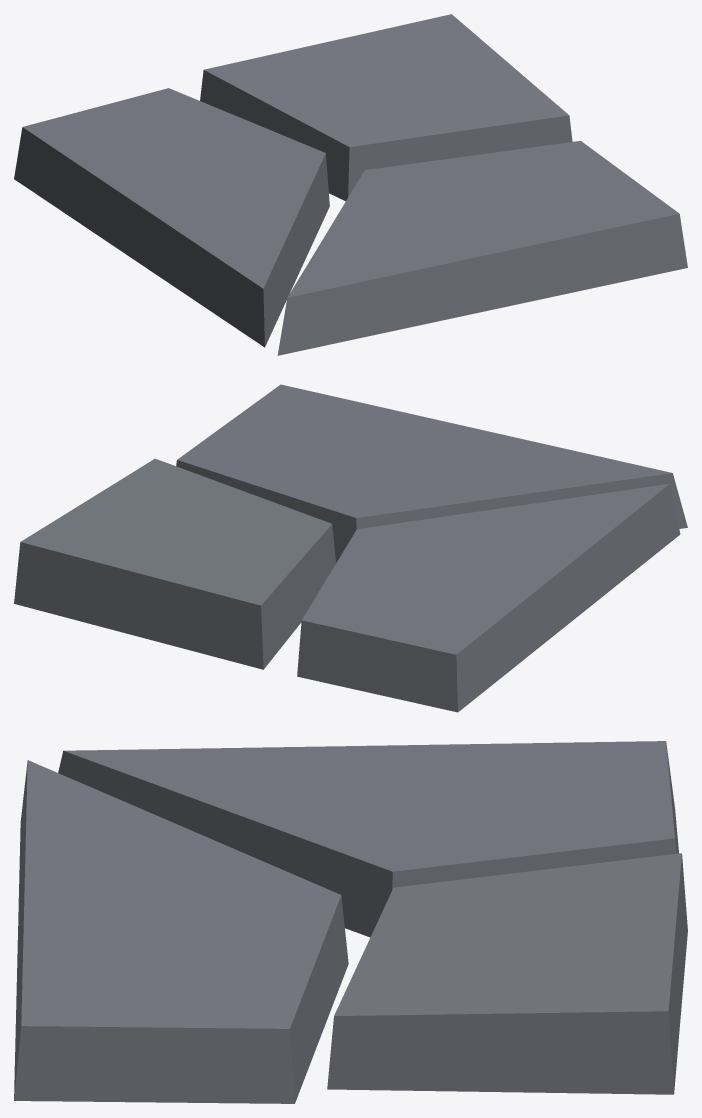
File: Rock_Tile_crk_m_02.fbx
3 views of the same model, one above another, from view 1: azimuth 30°, elevation 25°; view 2: azimuth 150°, elevation 25°; view 3: azimuth 270°, elevation 25° (orthographic). The views are drawn at different scales.
Visible parts, largest first — view 1: Rock_Tile_crk_m_02; view 2: Rock_Tile_crk_m_02; view 3: Rock_Tile_crk_m_02.
Boxes of the visible parts, x1,y1,x2,y2 form: Rock_Tile_crk_m_02: (14, 14, 687, 355); Rock_Tile_crk_m_02: (14, 384, 687, 712); Rock_Tile_crk_m_02: (14, 741, 687, 1103).
Bounding box in the file's own units: 43.08 × 6.85 × 42.92.
